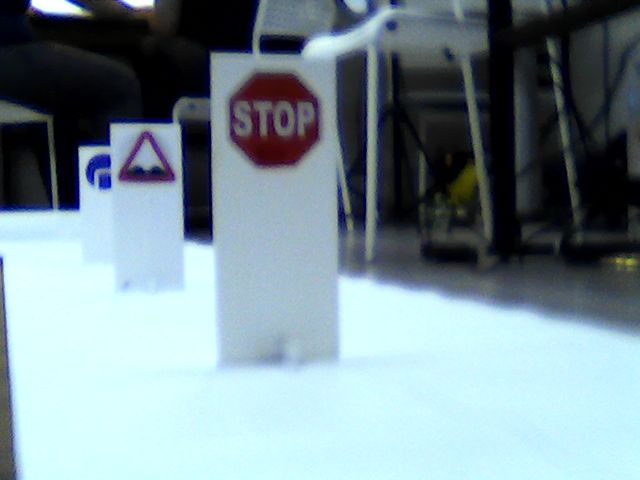Nerov: (116, 131, 174, 183)
Stop: (225, 71, 321, 166)
